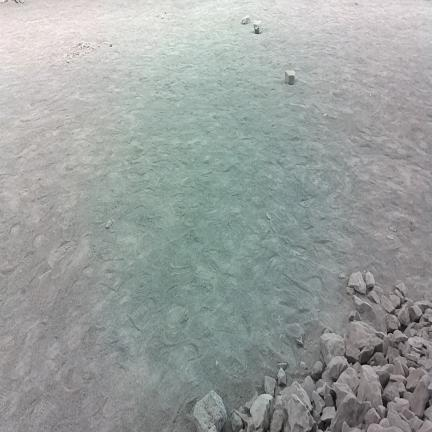Rock: (330, 394, 371, 431), (194, 391, 226, 431), (357, 365, 382, 408), (275, 381, 311, 410), (288, 395, 314, 431), (250, 394, 274, 431), (410, 375, 431, 417), (347, 321, 375, 350), (320, 333, 345, 364), (336, 367, 360, 394), (359, 338, 382, 364), (373, 364, 393, 392), (333, 382, 354, 408), (326, 357, 348, 381), (387, 410, 411, 431), (406, 368, 426, 391), (348, 271, 367, 294), (345, 335, 360, 364), (398, 300, 413, 326), (382, 384, 399, 405), (320, 407, 335, 430), (303, 376, 316, 402), (353, 295, 371, 313), (365, 408, 380, 429), (312, 390, 325, 414), (387, 398, 409, 412), (317, 383, 335, 399), (270, 410, 283, 431), (383, 336, 398, 354), (386, 314, 400, 332), (367, 424, 402, 431), (231, 412, 243, 432), (234, 410, 249, 426), (244, 392, 257, 410), (381, 295, 394, 313), (369, 352, 387, 365), (311, 361, 322, 381), (265, 376, 276, 395), (409, 306, 422, 322), (392, 330, 408, 343), (393, 360, 405, 377), (387, 347, 399, 363), (364, 271, 375, 288), (414, 301, 431, 312), (408, 337, 425, 348), (389, 374, 406, 385), (409, 417, 422, 431), (401, 407, 415, 419), (395, 281, 406, 296), (277, 368, 286, 386), (282, 411, 290, 431), (368, 291, 380, 304), (389, 294, 400, 308), (406, 351, 420, 362), (423, 340, 431, 359), (322, 370, 332, 385), (418, 420, 431, 431), (285, 71, 295, 84), (393, 289, 403, 302), (349, 311, 361, 321), (397, 382, 405, 397), (393, 356, 406, 365), (247, 417, 255, 431), (312, 410, 320, 424), (353, 362, 361, 376), (397, 342, 405, 356), (402, 342, 410, 356), (377, 405, 385, 418), (373, 286, 383, 296), (404, 323, 413, 334), (403, 392, 412, 403), (402, 364, 409, 378), (326, 394, 334, 406), (342, 422, 352, 431), (380, 418, 390, 427), (398, 413, 408, 422), (254, 21, 261, 33), (425, 407, 431, 421), (316, 379, 325, 388), (295, 336, 303, 346), (413, 323, 423, 331), (411, 347, 421, 355), (407, 360, 417, 368), (278, 362, 287, 370), (407, 329, 416, 337), (418, 357, 426, 366), (312, 424, 322, 431), (425, 360, 431, 371), (238, 406, 246, 414), (242, 15, 249, 24), (376, 331, 385, 338), (300, 362, 307, 370), (347, 287, 354, 295), (423, 314, 431, 321), (422, 331, 428, 340), (106, 219, 112, 228), (422, 348, 427, 357), (351, 428, 365, 431), (339, 273, 346, 279), (424, 308, 431, 314), (422, 327, 429, 333), (389, 226, 396, 232), (386, 235, 394, 240), (266, 213, 271, 220), (416, 330, 421, 336), (17, 0, 24, 3), (324, 329, 329, 333), (429, 331, 431, 341), (164, 10, 167, 14), (97, 44, 100, 48), (14, 0, 18, 3), (323, 114, 328, 116), (162, 15, 164, 19), (216, 361, 218, 365), (157, 14, 159, 17), (154, 10, 157, 12), (110, 44, 112, 47), (430, 326, 431, 331)
